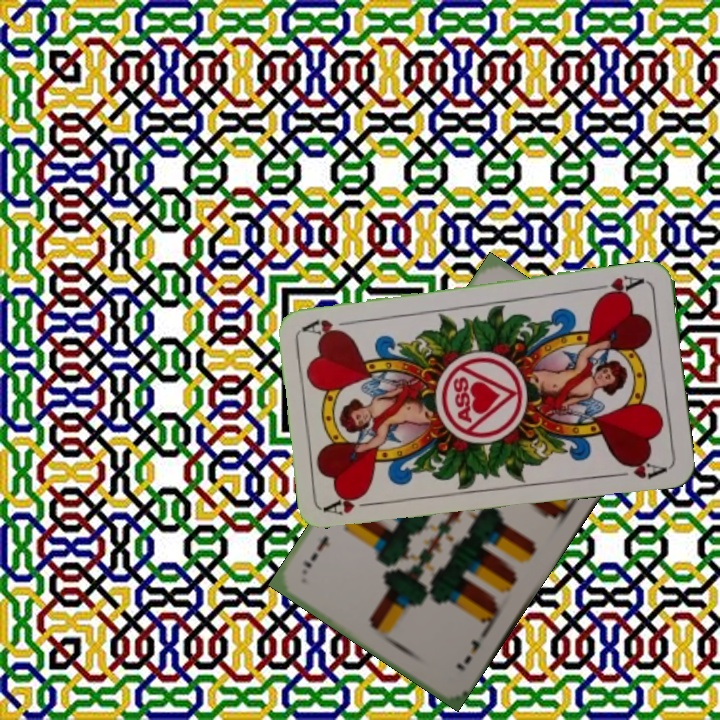E7: (451, 635, 483, 674)
HA: (589, 271, 648, 301), (322, 488, 381, 518)
